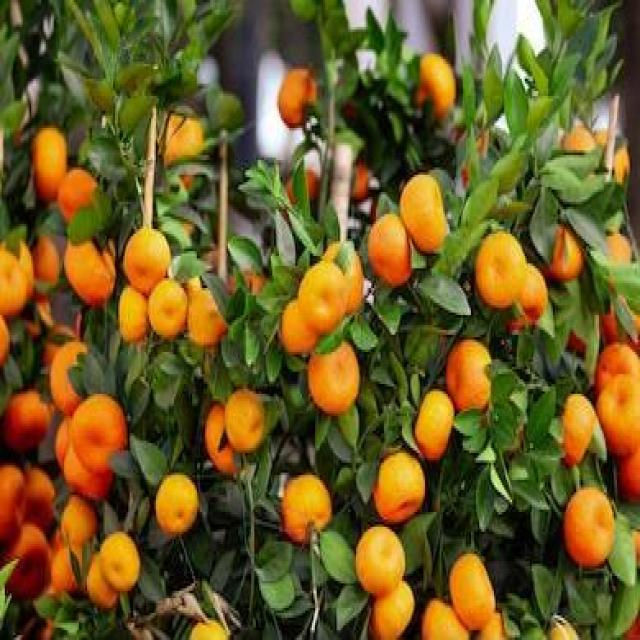orange: (71, 390, 123, 476), (561, 485, 613, 570), (296, 258, 349, 339), (448, 551, 498, 629), (595, 371, 640, 457), (62, 237, 117, 306), (477, 231, 525, 310), (308, 346, 362, 415), (404, 172, 448, 252), (376, 454, 426, 523), (366, 213, 413, 285), (354, 526, 405, 591), (122, 226, 172, 290), (281, 471, 328, 534), (450, 340, 492, 408), (156, 469, 198, 533), (101, 531, 143, 592), (227, 382, 263, 453), (150, 278, 184, 336), (188, 288, 219, 347)
